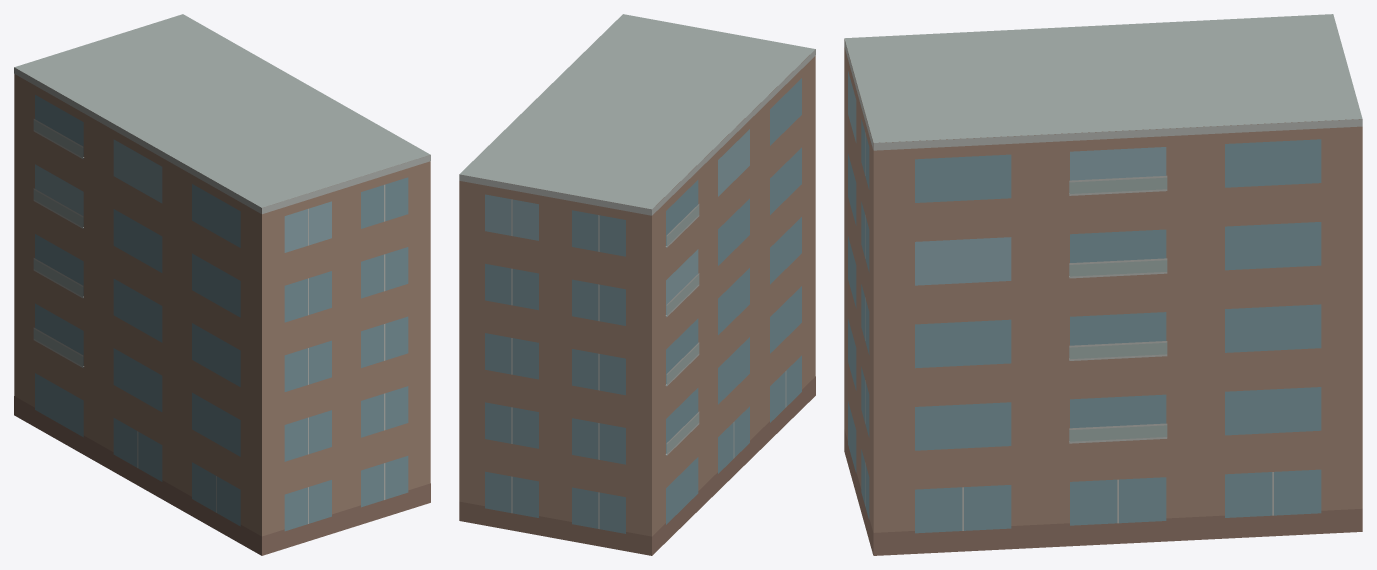
The model's file is survey-upis-33014512.glb.
The picture shows the model from 3 angles, left to right: view 1: azimuth 30°, elevation 25°; view 2: azimuth 150°, elevation 25°; view 3: azimuth 270°, elevation 25°; orthographic projection. The views are drawn at different scales.
Parts seen in each view (by area): view 1: survey-upis-33014512.tmp; view 2: survey-upis-33014512.tmp; view 3: survey-upis-33014512.tmp.
Part boxes in pixels (x1=…): survey-upis-33014512.tmp: x1=14, y1=14, x2=430, y2=555; survey-upis-33014512.tmp: x1=459, y1=14, x2=815, y2=555; survey-upis-33014512.tmp: x1=844, y1=14, x2=1362, y2=555.
Bounding box in the file's own units: 8.86 × 13.2 × 15.03.
